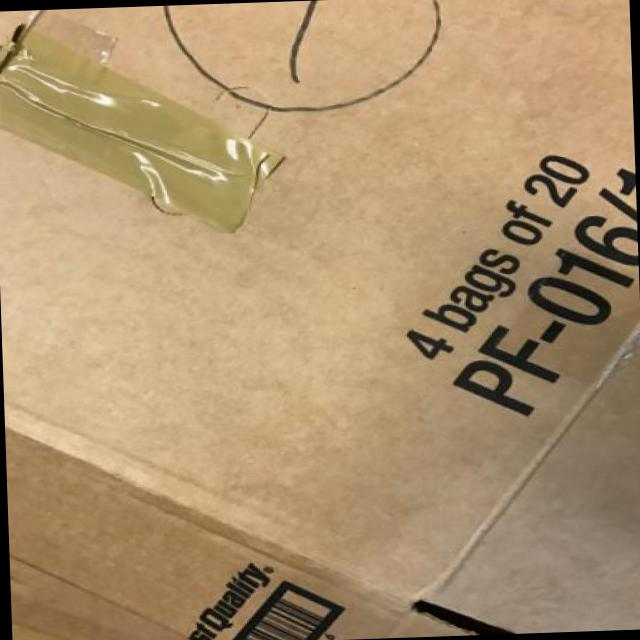cardboard: (0, 0, 639, 639), (427, 342, 639, 632)
plastic: (0, 30, 280, 232)
